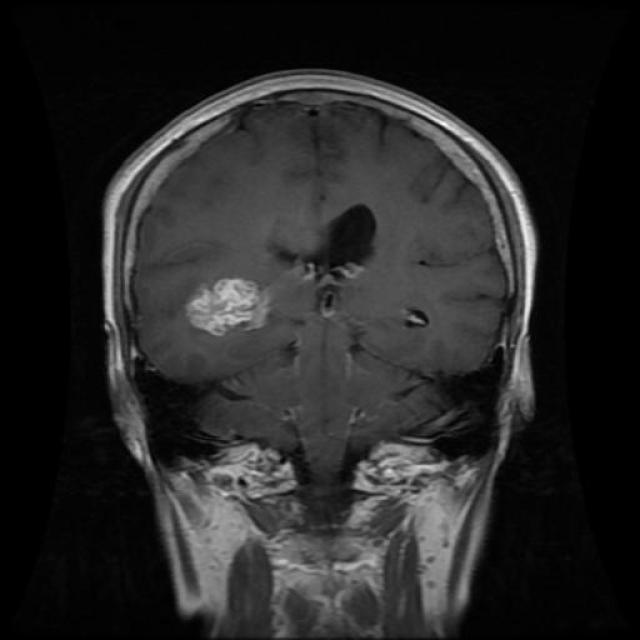glioma: (280, 206, 380, 282), (181, 276, 278, 336)
